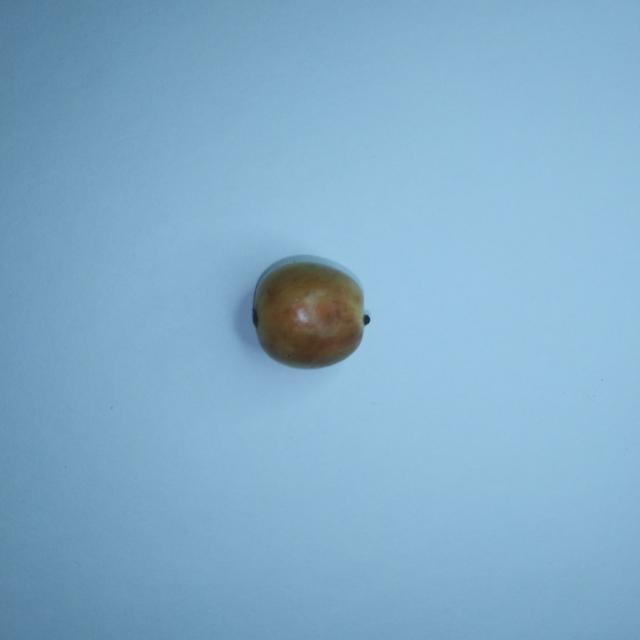Sano: (252, 256, 369, 367)
